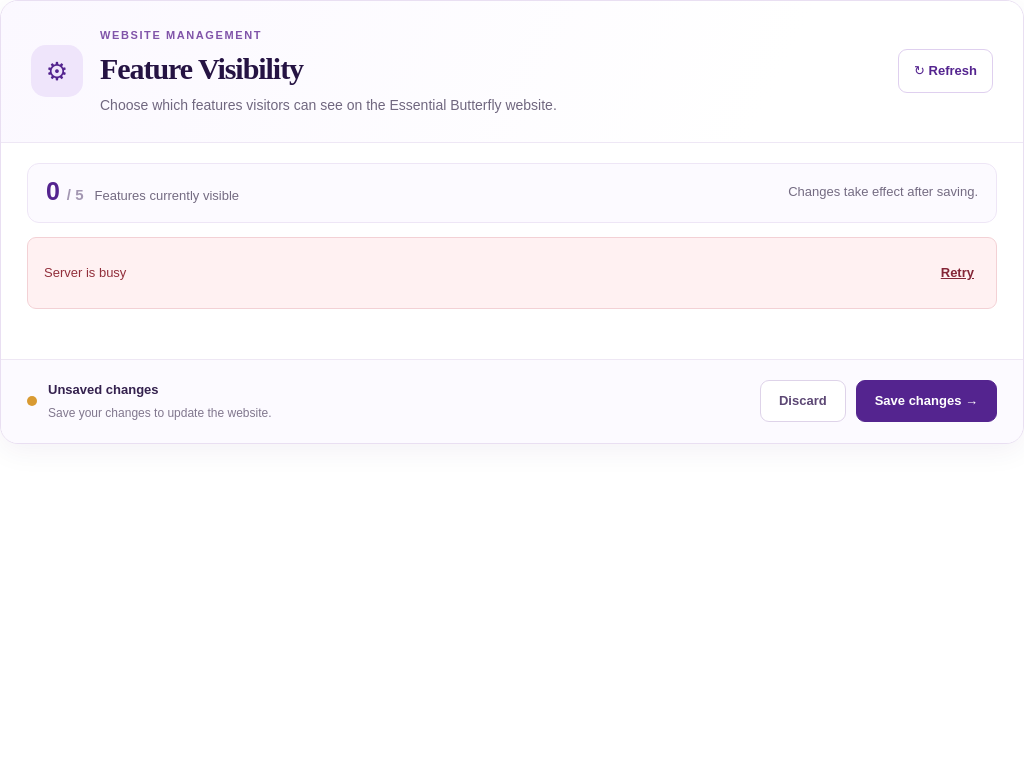
Test: FeatureVisibility › shows an error with a retry button when loading fails
The width and height of the screenshot is (1024, 768).
Expected: the message shows "Server is busy", left=44, top=265, right=126, bottom=280
Click the button "Retry": x=957, y=273 left=935, top=251, right=980, bottom=295
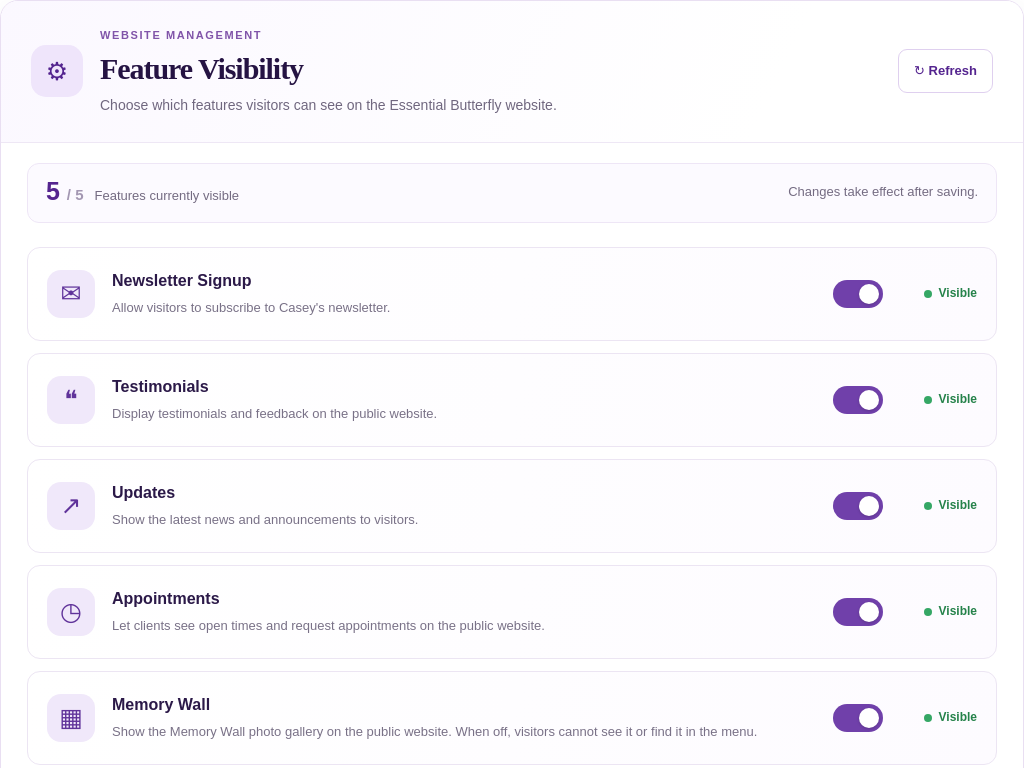
Expected: the heading "Newsletter Signup" is shown, left=112, top=272, right=252, bottom=289
Expected: the message "Server is busy Retry" is gone
